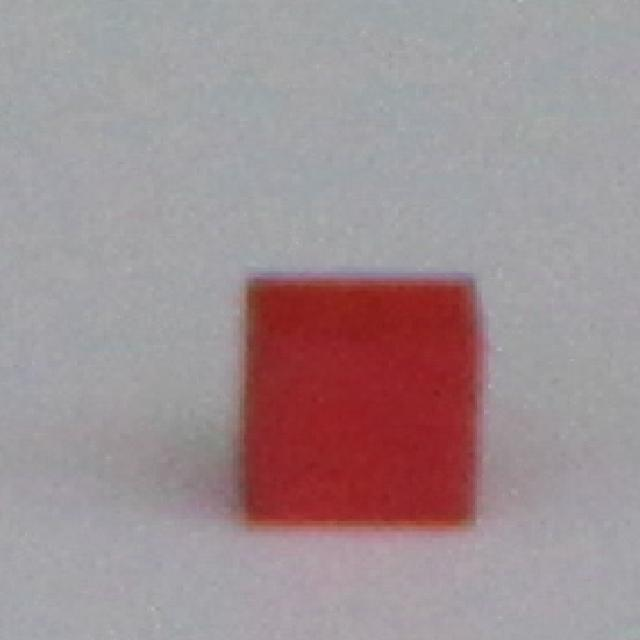red cube: (246, 278, 486, 525)
